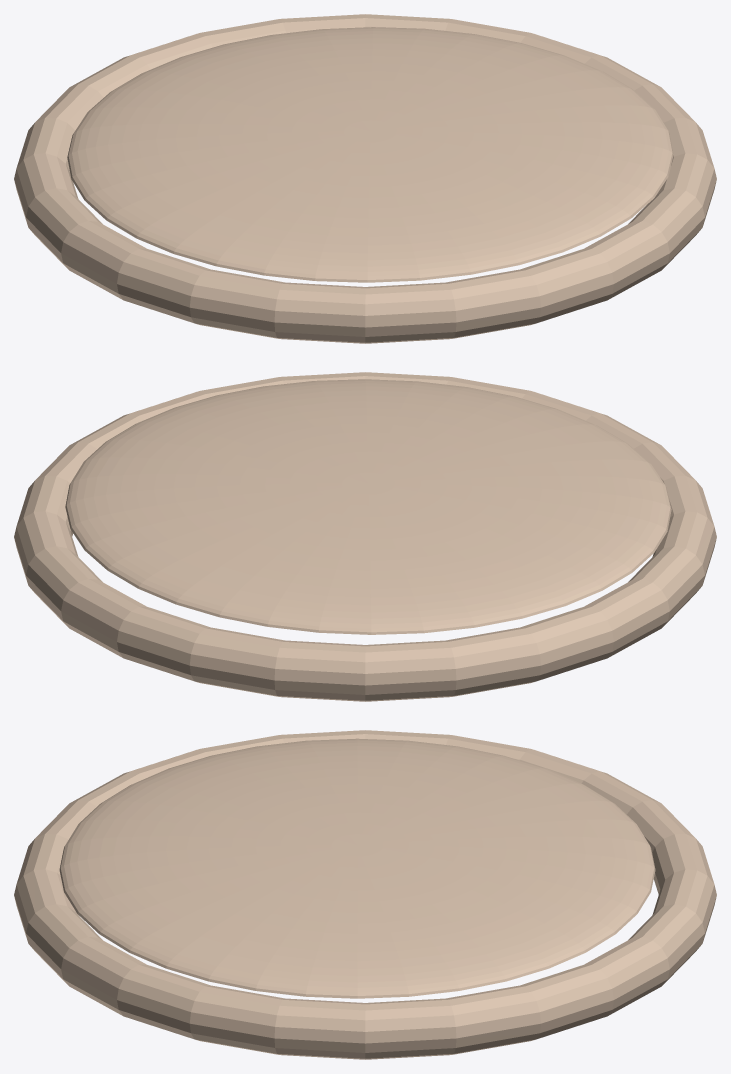
The model's file is Making the Crust.glb.
3 renders of one model, top to bottom at view 1: azimuth 30°, elevation 25°; view 2: azimuth 150°, elevation 25°; view 3: azimuth 270°, elevation 25°, orthographic.
Visible parts, largest first — view 1: Mesh_Mesh_head_geo.001_lambert2SG.001; view 2: Mesh_Mesh_head_geo.001_lambert2SG.001; view 3: Mesh_Mesh_head_geo.001_lambert2SG.001.
Part boxes in pixels (x1,y1,x2,y2): Mesh_Mesh_head_geo.001_lambert2SG.001: (14,14,716,343); Mesh_Mesh_head_geo.001_lambert2SG.001: (14,372,716,701); Mesh_Mesh_head_geo.001_lambert2SG.001: (14,730,716,1059).
Size of the model in its own units: 155 by 18.44 by 155.
